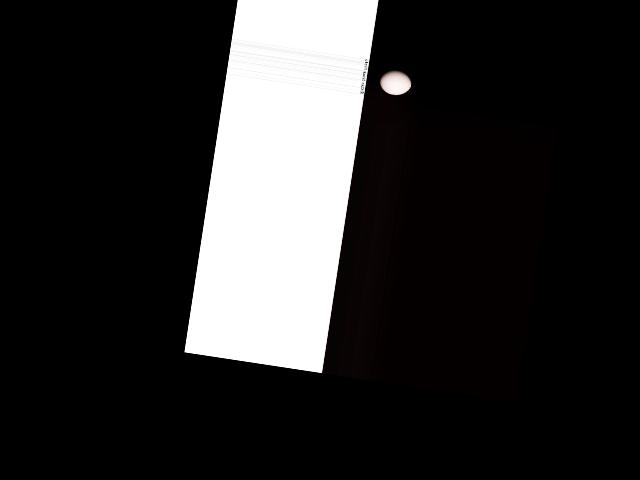egg: (377, 68, 412, 96)
